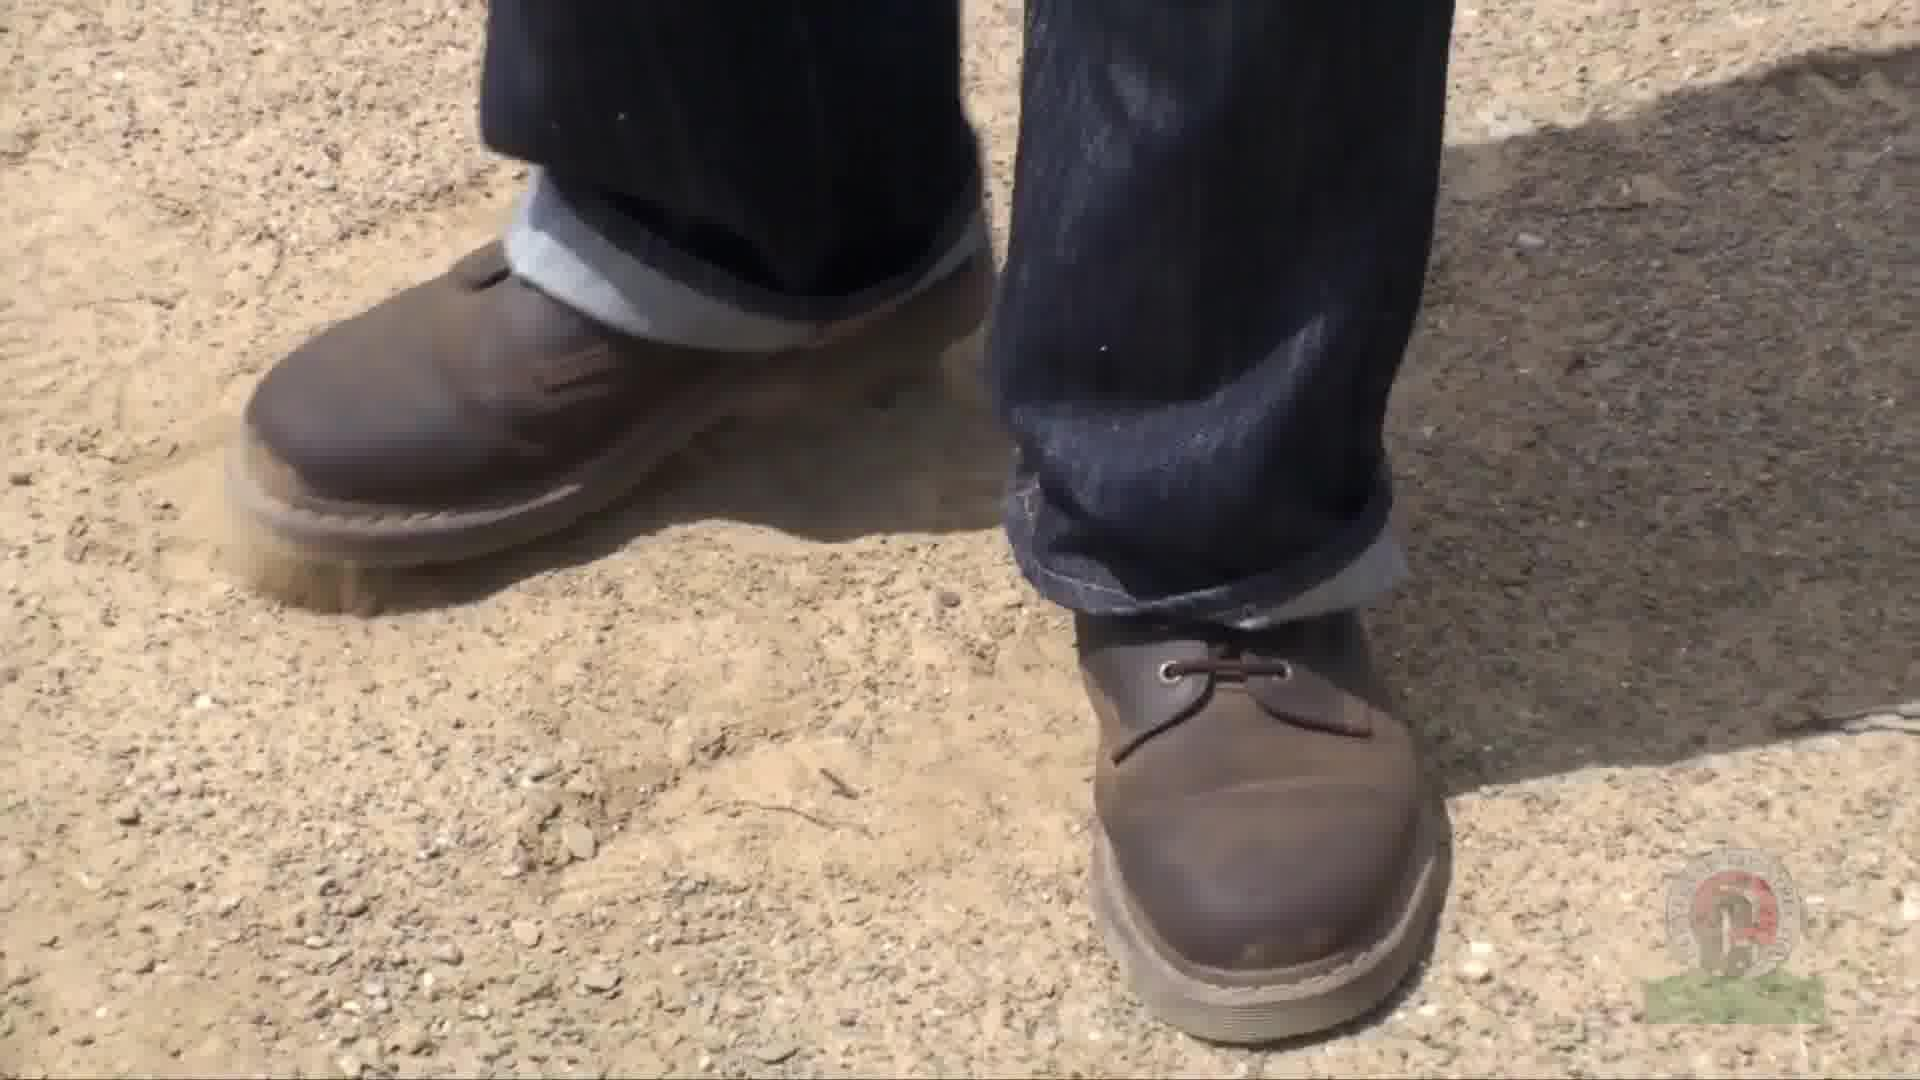safety boot: (212, 82, 1464, 1077)
